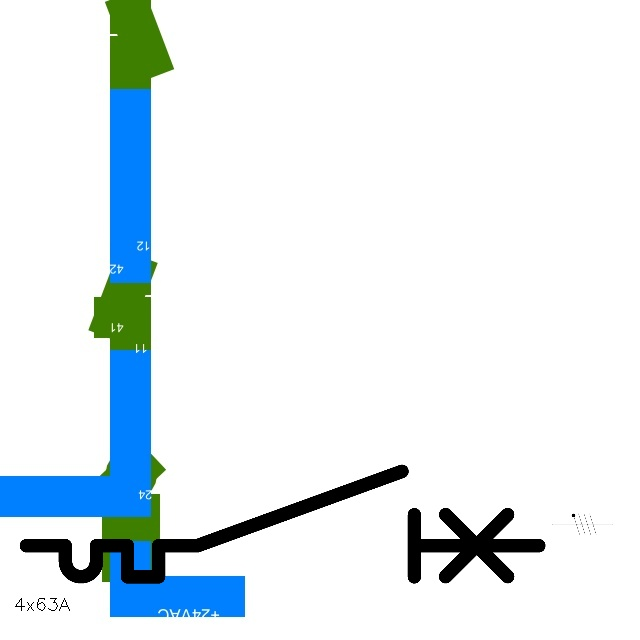interruptor_termomagnetico: (13, 458, 552, 590)
